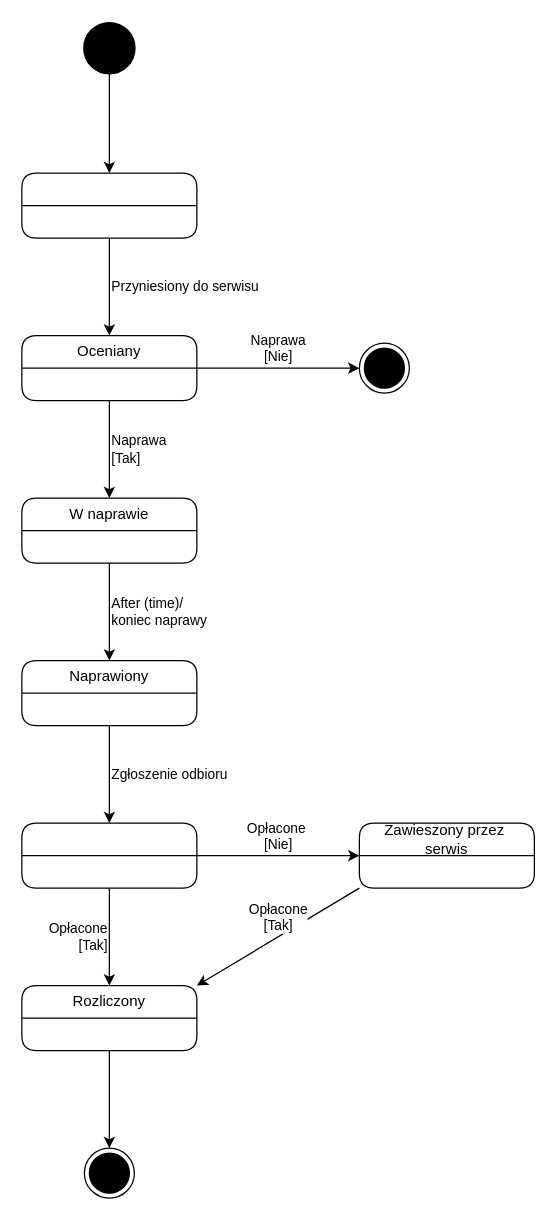
The diagram is 556 pixels wide and 1220 high, and some of its shapes have lost their labels. The box of each missing label's shape, as (x1, y1, x2, y2) in pixels:
Oczekuje na odbiór: (21, 822, 197, 888)
Uszkodzony: (21, 172, 197, 238)
